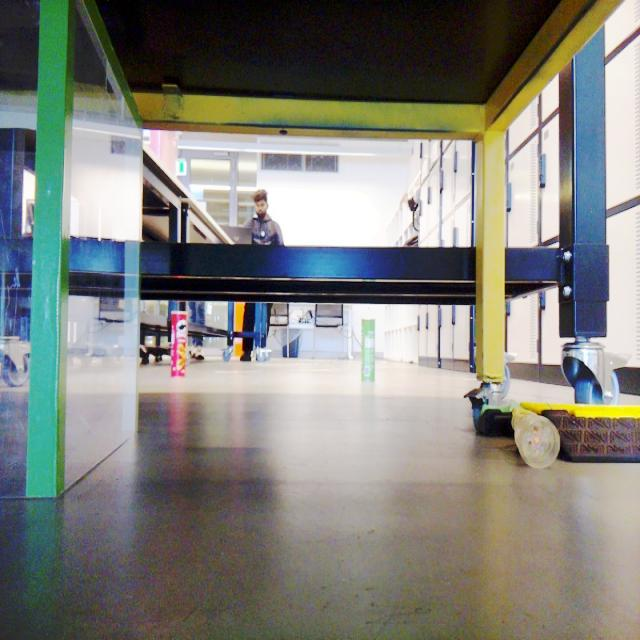greenpringles: (351, 312, 390, 396)
redpringles: (161, 304, 199, 383)
